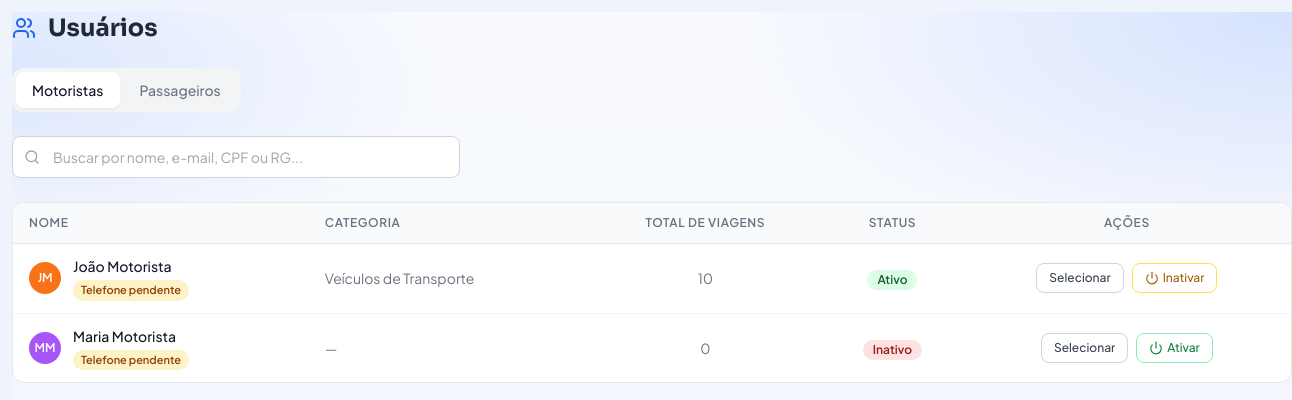
Scenario: UsersPage — role switching › switches to passengers and renders passenger columns
The image size is (1292, 400).
Expected: the text "João Motorista" is shown, [73,256,172,276]
Click the button "Passageiros": (180, 90) [124,72,237,108]
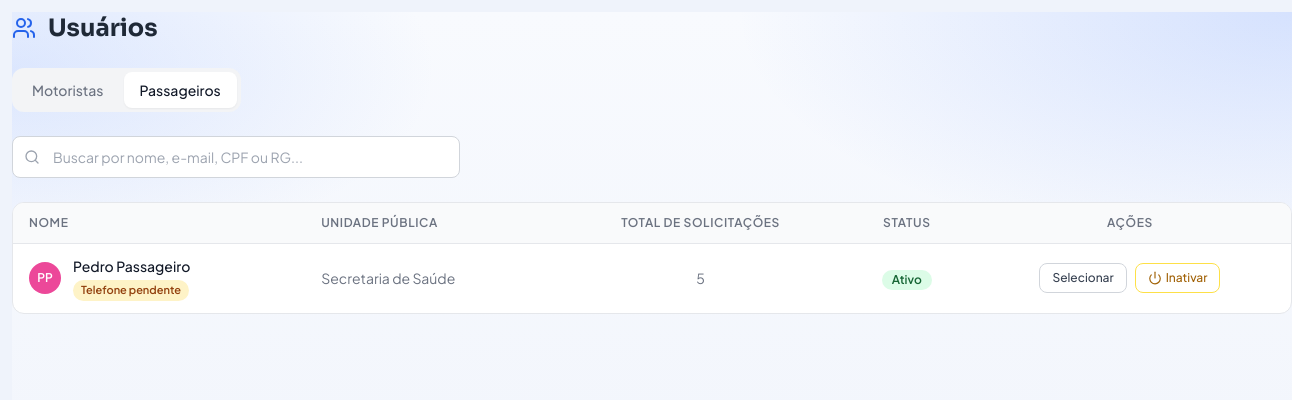
Result: the column heading "Unidade Pública" is shown at [305,203,556,244]
Result: the column heading "Total de Solicitações" is shown at [556,203,845,244]
Result: the text "Pedro Passageiro" is shown at [73,256,190,276]
